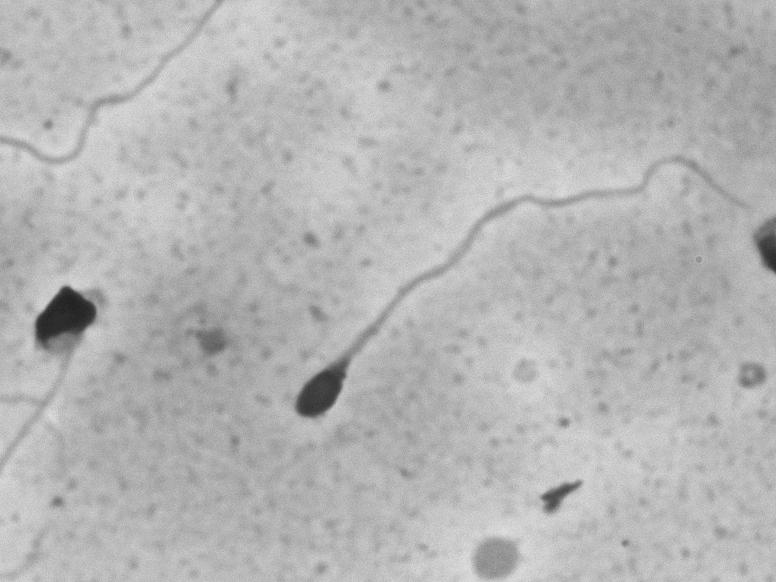Abnormal: (275, 108, 698, 453)
